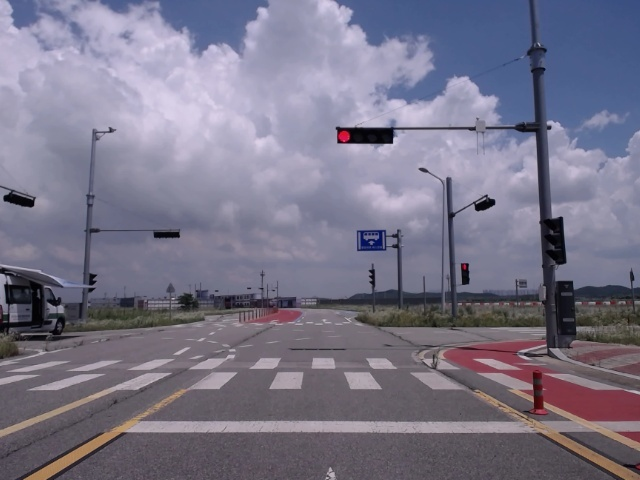red_4: (337, 129, 393, 145)
